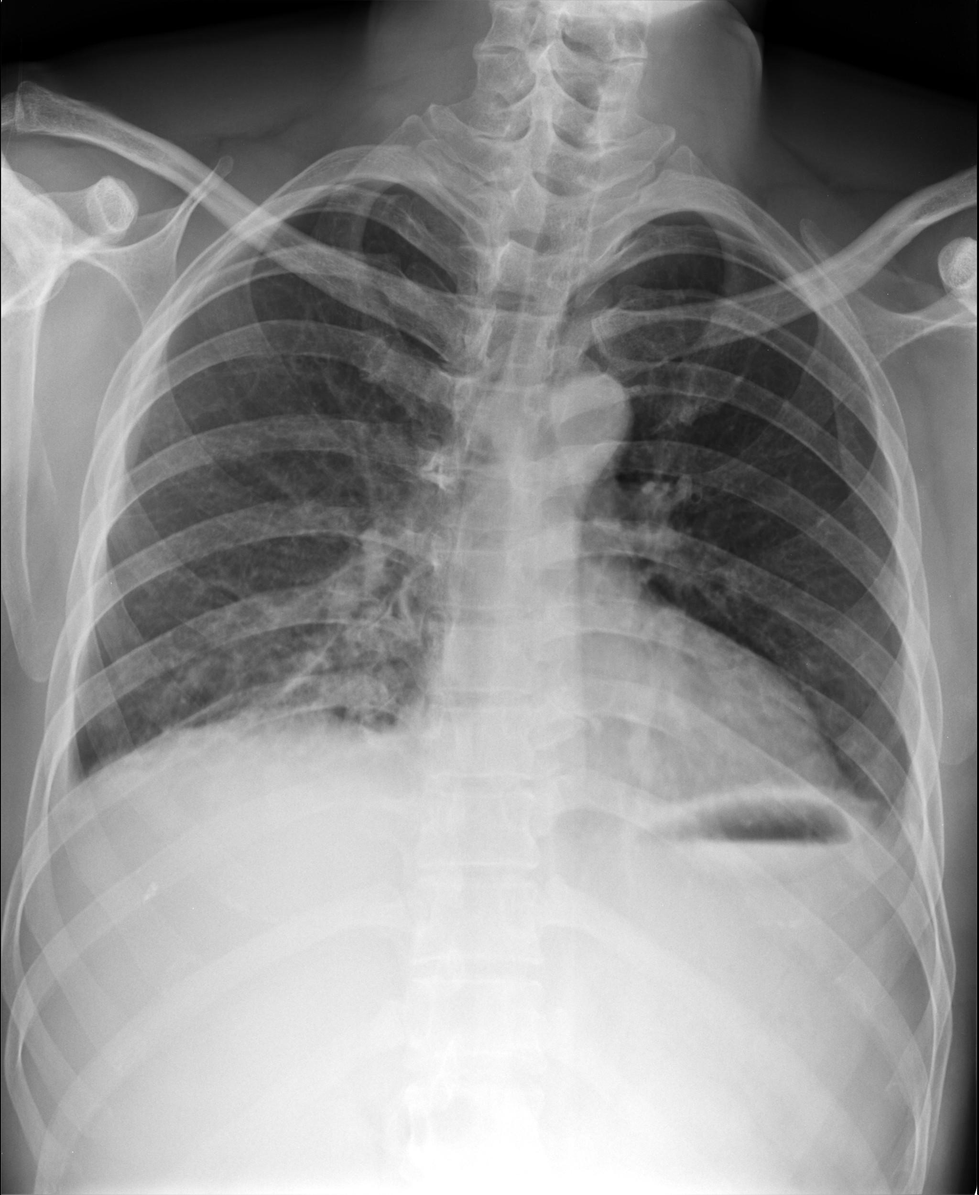Aortic enlargement: (530, 370, 629, 475)
Cardiomegaly: (383, 635, 846, 832)
Pleural thickening: (846, 791, 933, 909)
